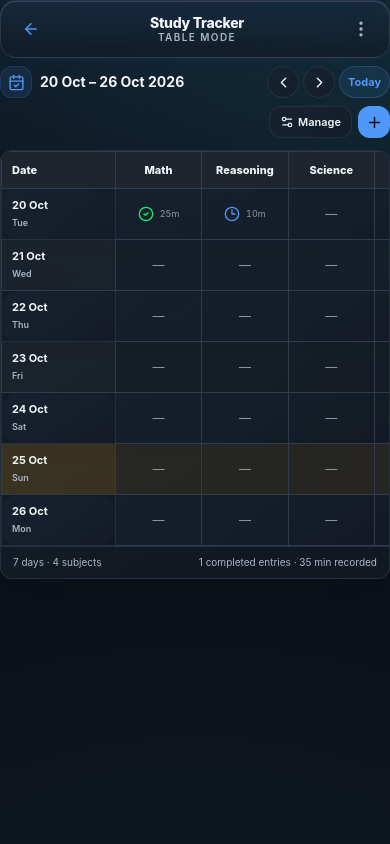
it: StudyTracker › shows separate completed and in-progress indicators for a mixed monthly study day
This screenshot has width=390, height=844.
Click the button named "current mode table": (361, 29) [341,9,381,49]
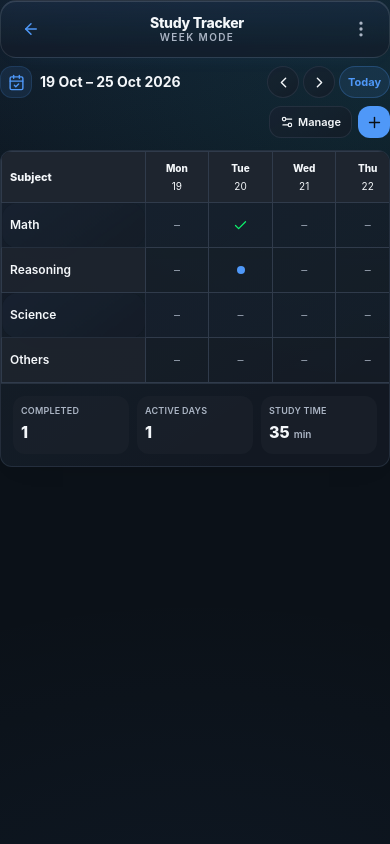
Click the button named "current mode table": (361, 29) [341,9,381,49]
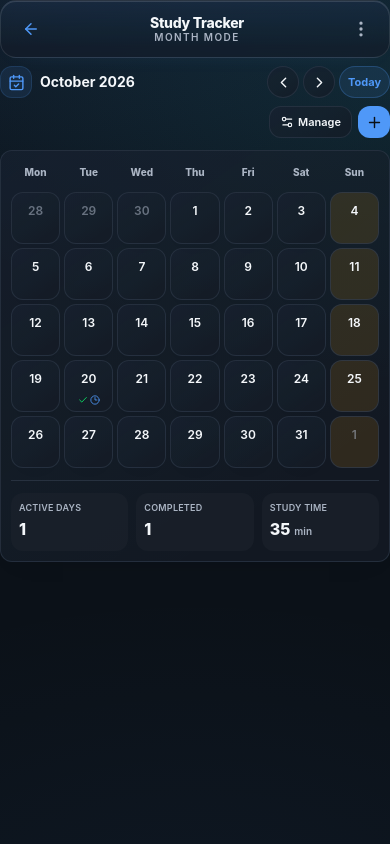
Check: the 9th icon has class "text-primary", box [90,395,100,405]
